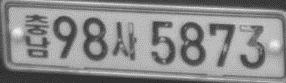3: (239, 24, 266, 70)
5: (151, 21, 176, 65)
7: (208, 23, 235, 66)
8: (179, 21, 206, 66), (82, 16, 108, 61)
9: (52, 14, 78, 59)
사: (111, 21, 138, 61)
충남_V: (24, 13, 50, 58)
